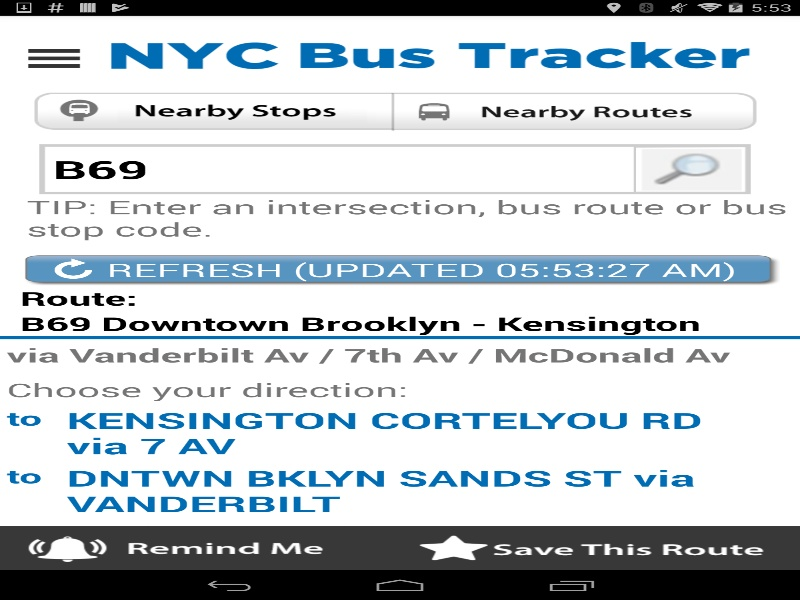Button: (0, 526, 400, 570), (400, 526, 800, 570), (20, 89, 393, 133), (393, 89, 766, 133), (0, 18, 74, 53)
Input: (39, 144, 639, 194)
